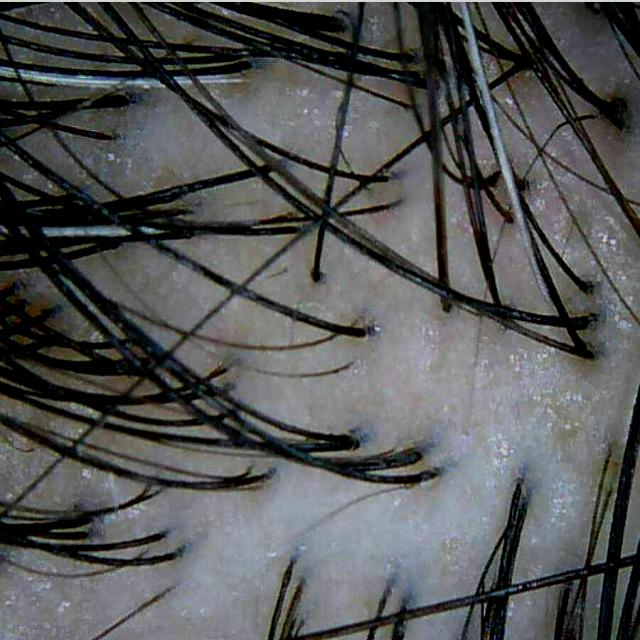o: (474, 337, 592, 483), (0, 555, 78, 640), (599, 217, 640, 322), (101, 146, 148, 183), (285, 86, 325, 128), (96, 506, 146, 536), (78, 470, 114, 498), (444, 534, 468, 571), (525, 177, 550, 212)
